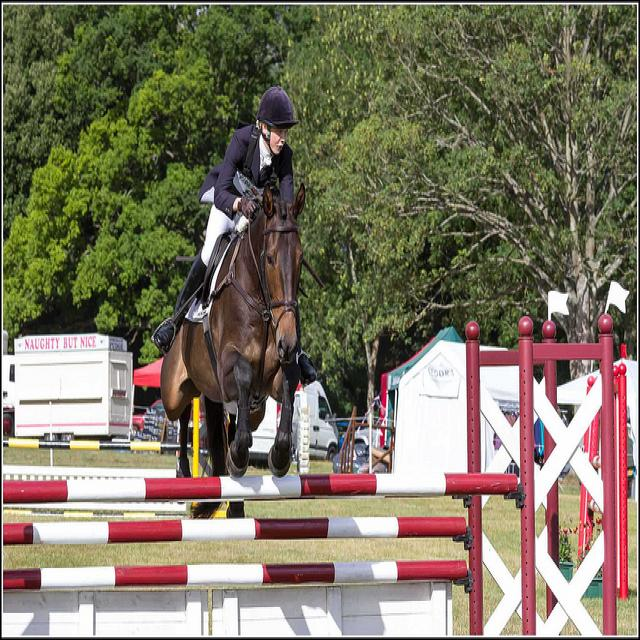Vehicle: (0, 336, 135, 442), (249, 382, 341, 459), (132, 399, 162, 432)
